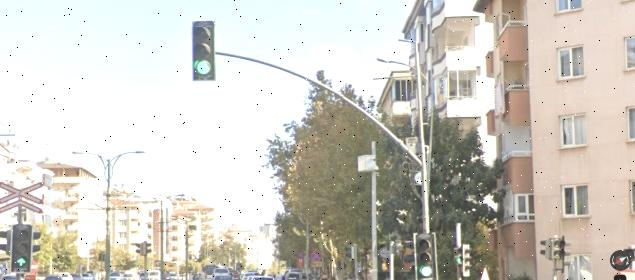greenlight: (193, 20, 215, 79), (415, 233, 436, 279), (13, 224, 30, 272)
